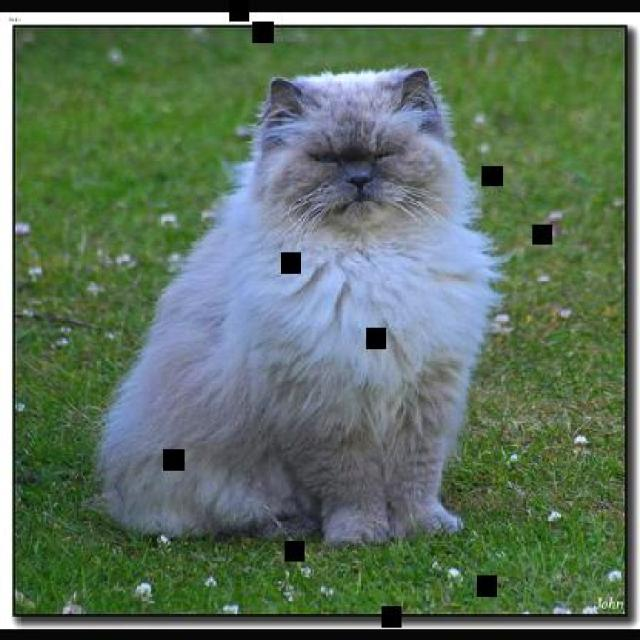unauthorized: (90, 65, 508, 548)
